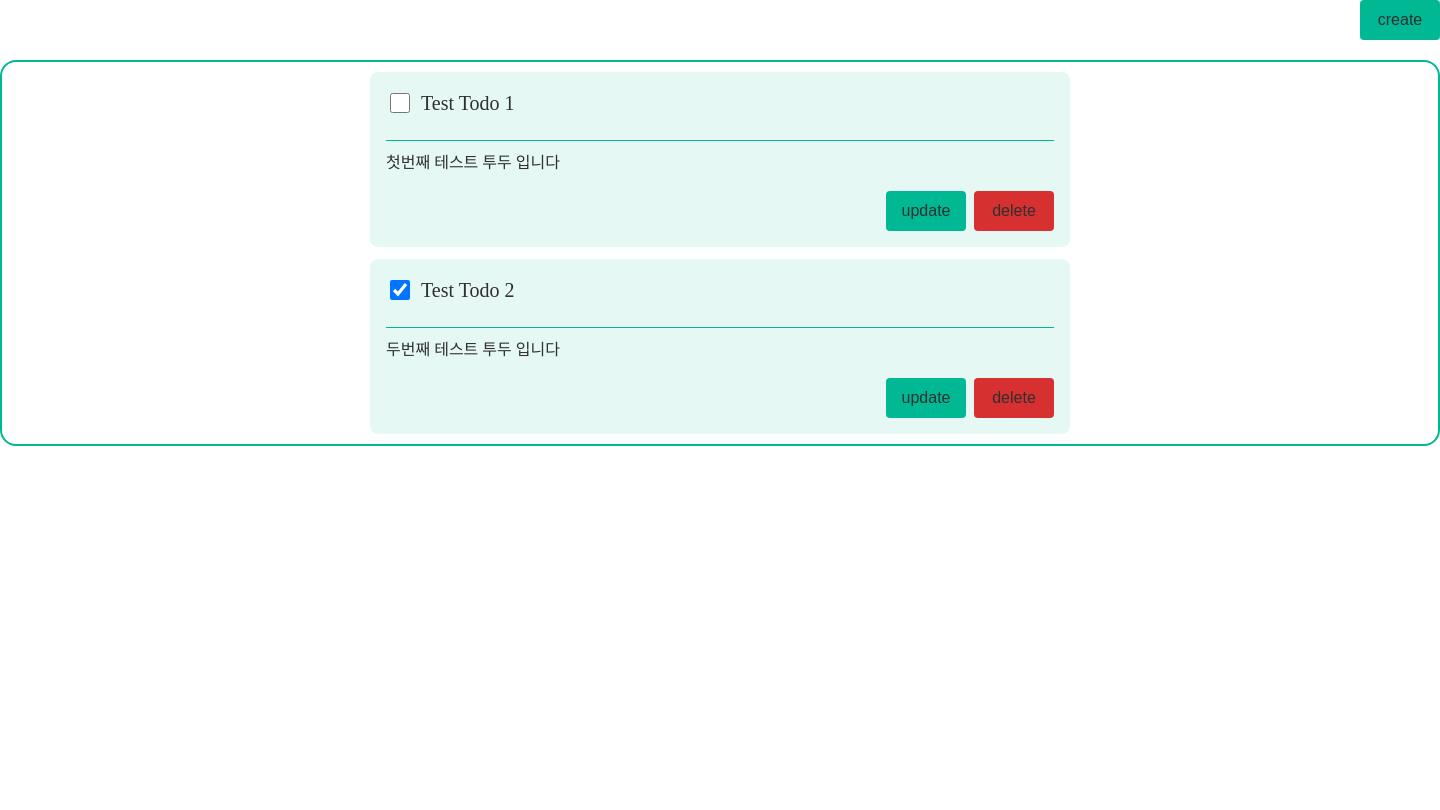
Test: TodoListContent 컴포넌트 › update 버튼 클릭 시 TodoFormDialog가 update 모드로 열려야 합니다
Click the 1st button "update": (926, 211) [886,191,966,231]
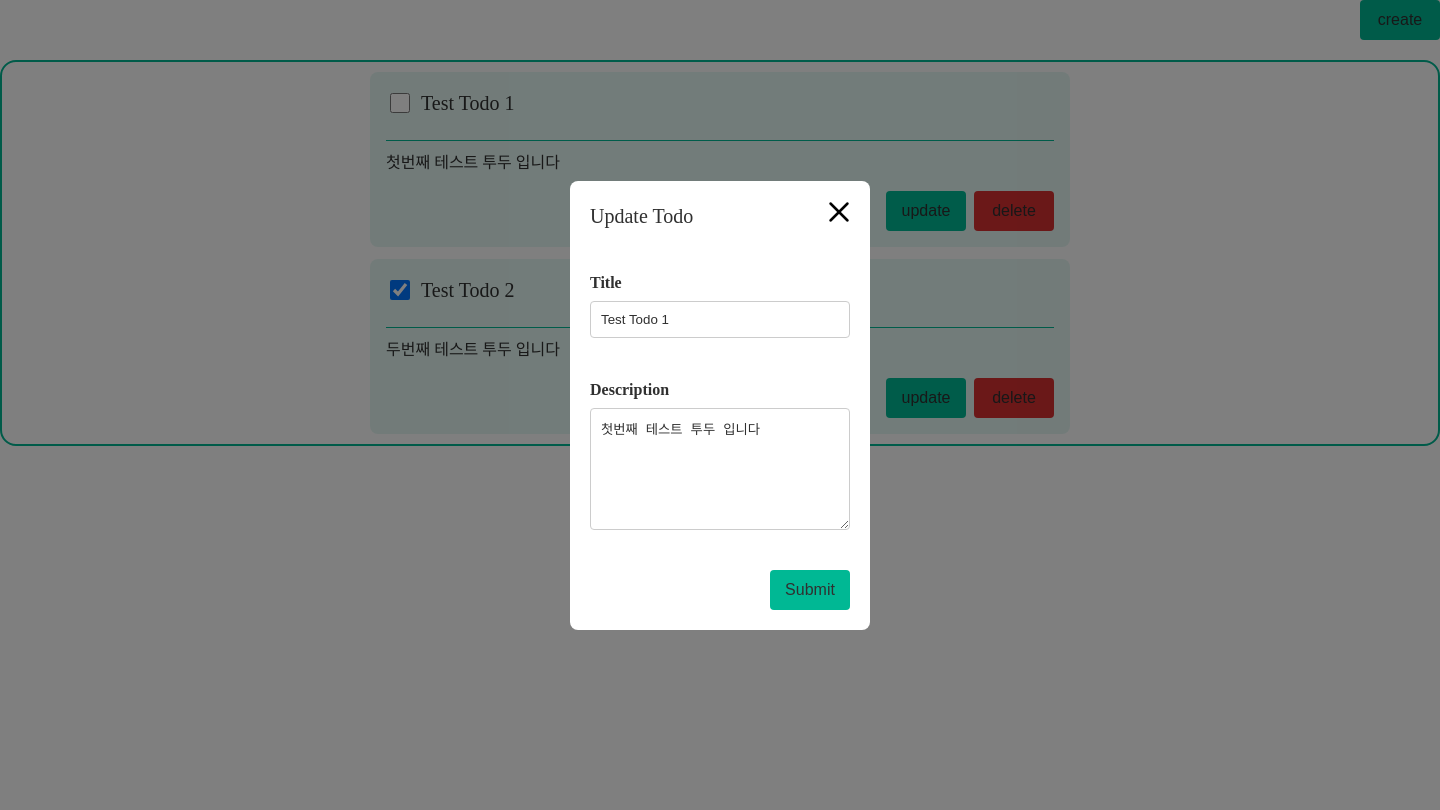
Result: the heading "Update Todo" is shown at [590,204,693,226]
